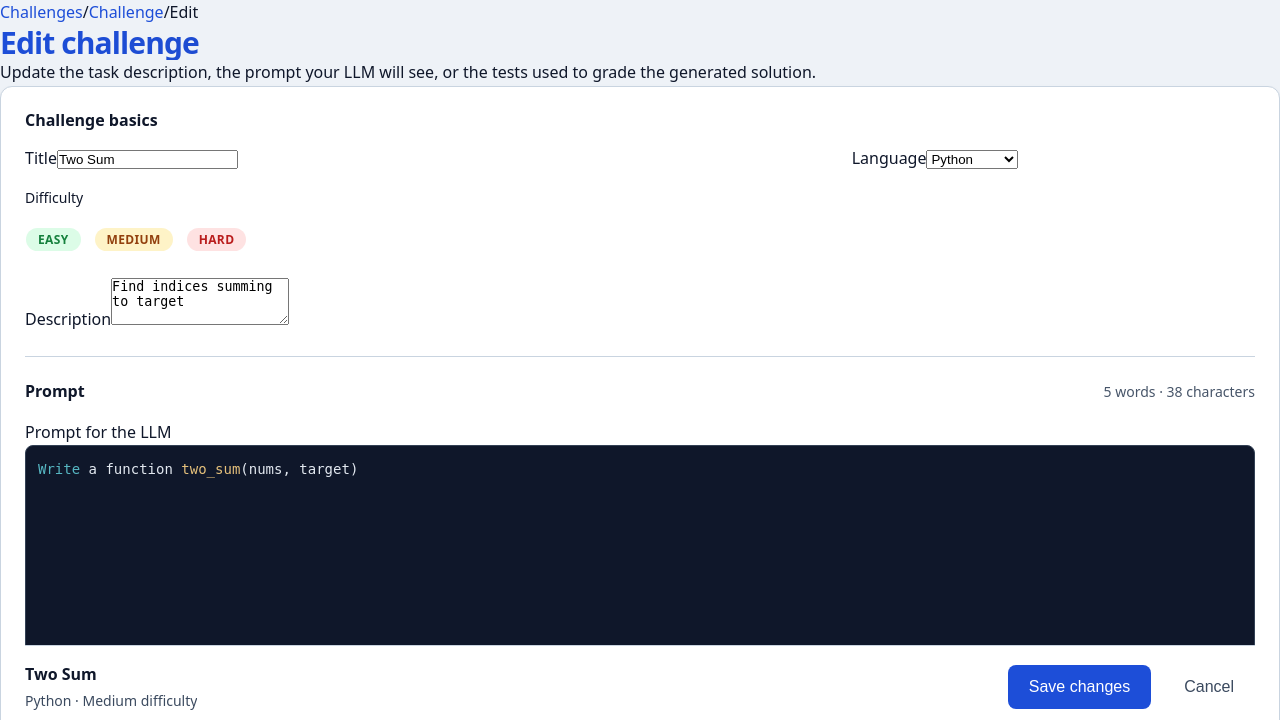
Test: EditChallenge › surfaces update errors
Check: the heading "Edit challenge" is shown, box [0, 26, 1279, 60]
Step 1. Click the button "Save changes" → point(1080, 687), box [1008, 665, 1151, 709]
(page scrolled)
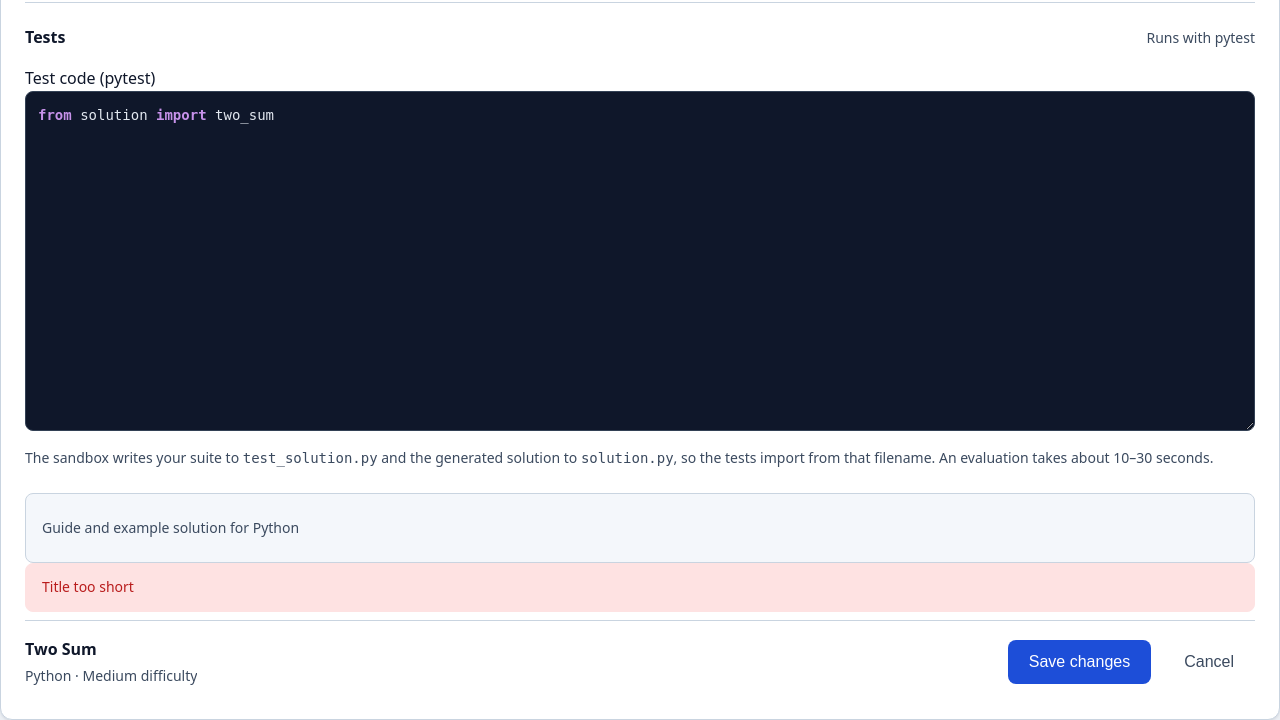
Check: the message reads "Title too short", box [42, 577, 134, 596]
